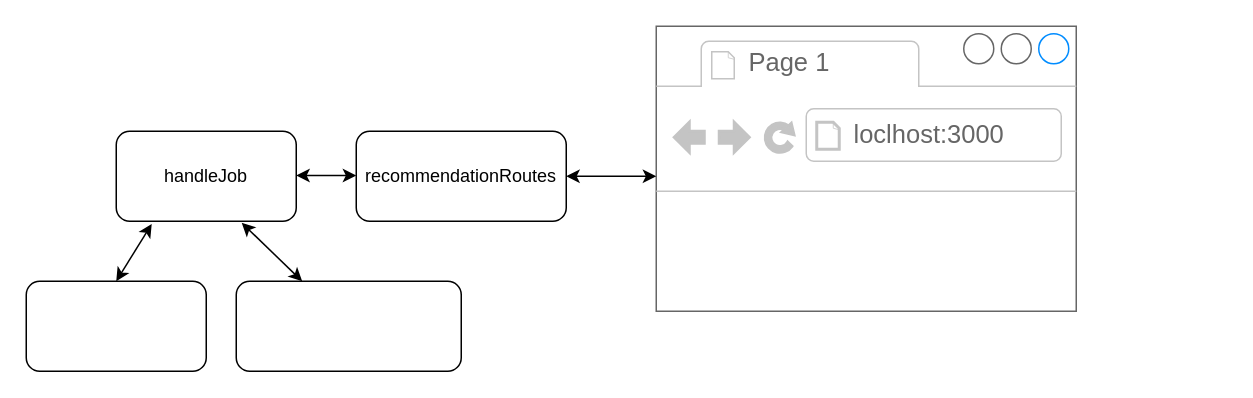
The diagram is 1253 pixels wide and 398 high, and some of its shapes have lost their labels. Here are the shapes that lost their labels. From the top down, the centre of each, then its label:
At point 115,325: "htmlParser".
At point 348,325: "analyzeRecommendations".
